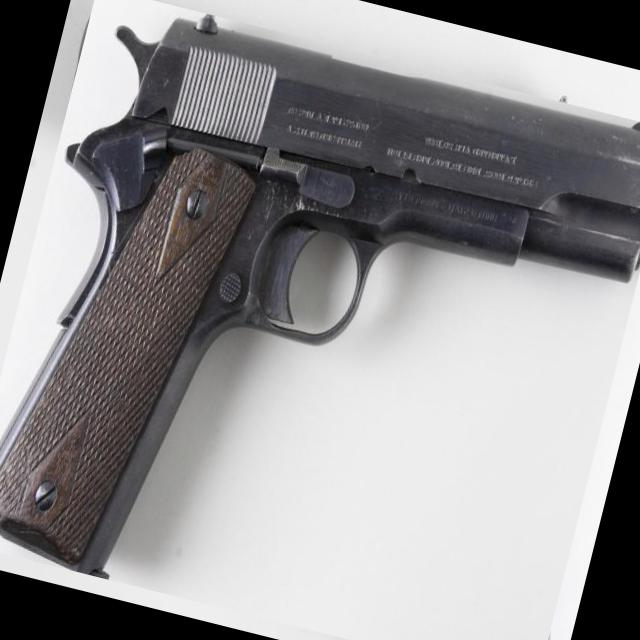Gun: (0, 14, 640, 578)
